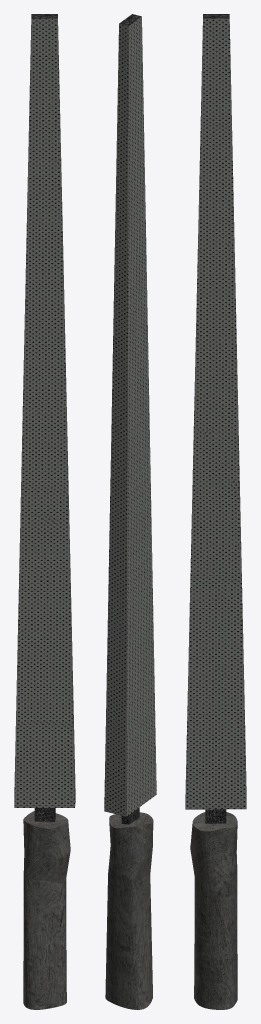
3 views of the same model, side by side, from view 1: azimuth 90°, elevation 25°; view 2: azimuth 150°, elevation 25°; view 3: azimuth 270°, elevation 25° (orthographic).
Visible parts, largest first — view 1: File; view 2: File; view 3: File.
Boxes of the visible parts, x1,y1,x2,y2 form: File: (14, 14, 75, 1009); File: (104, 14, 156, 1009); File: (185, 14, 246, 1009).
Size of the model in its own units: 10.88 by 250 by 14.16.
Materials: 1 (1 with a texture image).
